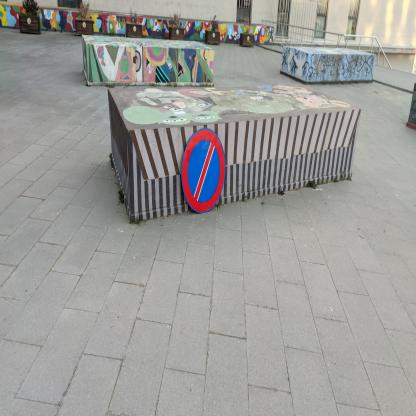No Waiting: (183, 129, 227, 215)
